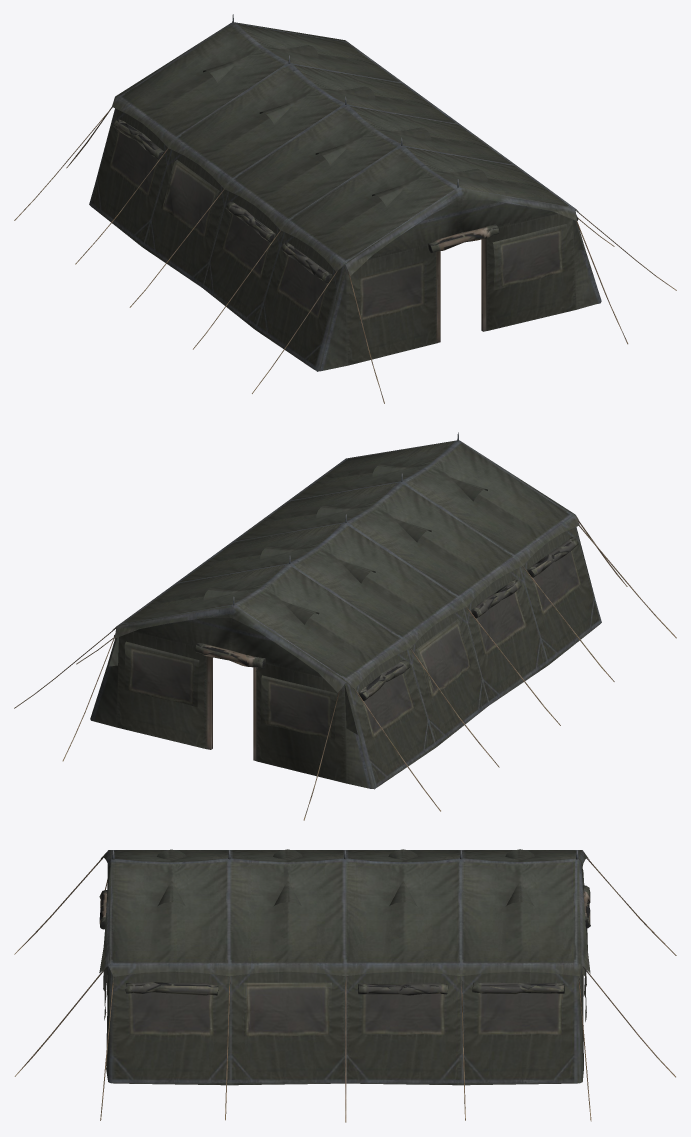
Rendered from CommandPost.obj.
3 renders of one model, top to bottom at view 1: azimuth 30°, elevation 25°; view 2: azimuth 150°, elevation 25°; view 3: azimuth 270°, elevation 25°, orthographic. The views are drawn at different scales.
Visible parts, largest first — view 1: CommandPost; view 2: CommandPost; view 3: CommandPost.
Part boxes in pixels (box(x1,y1,x2,y2)): CommandPost: box(14, 14, 676, 403); CommandPost: box(14, 432, 676, 820); CommandPost: box(14, 849, 676, 1122).
Size of the model in its own units: 5.11 by 1.81 by 6.59.
1 material, 1 textured.
